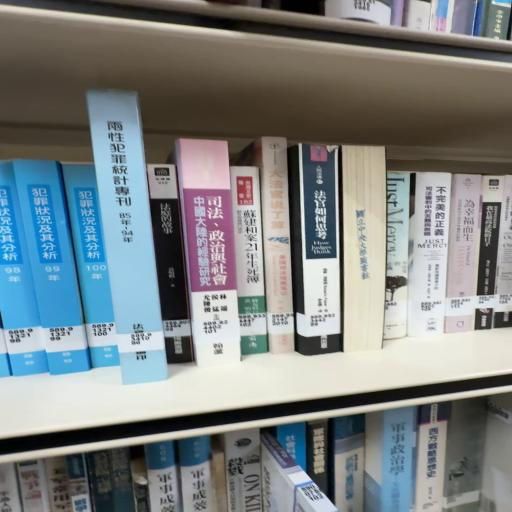backward: (340, 146, 387, 354)
book: (84, 89, 168, 374), (178, 139, 243, 366), (299, 143, 345, 358), (146, 160, 192, 365)
